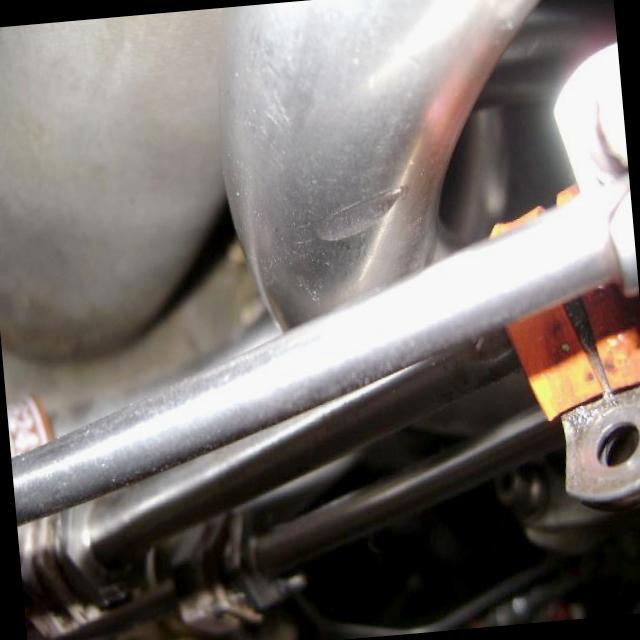Missing Fastener: (558, 398, 640, 489)
